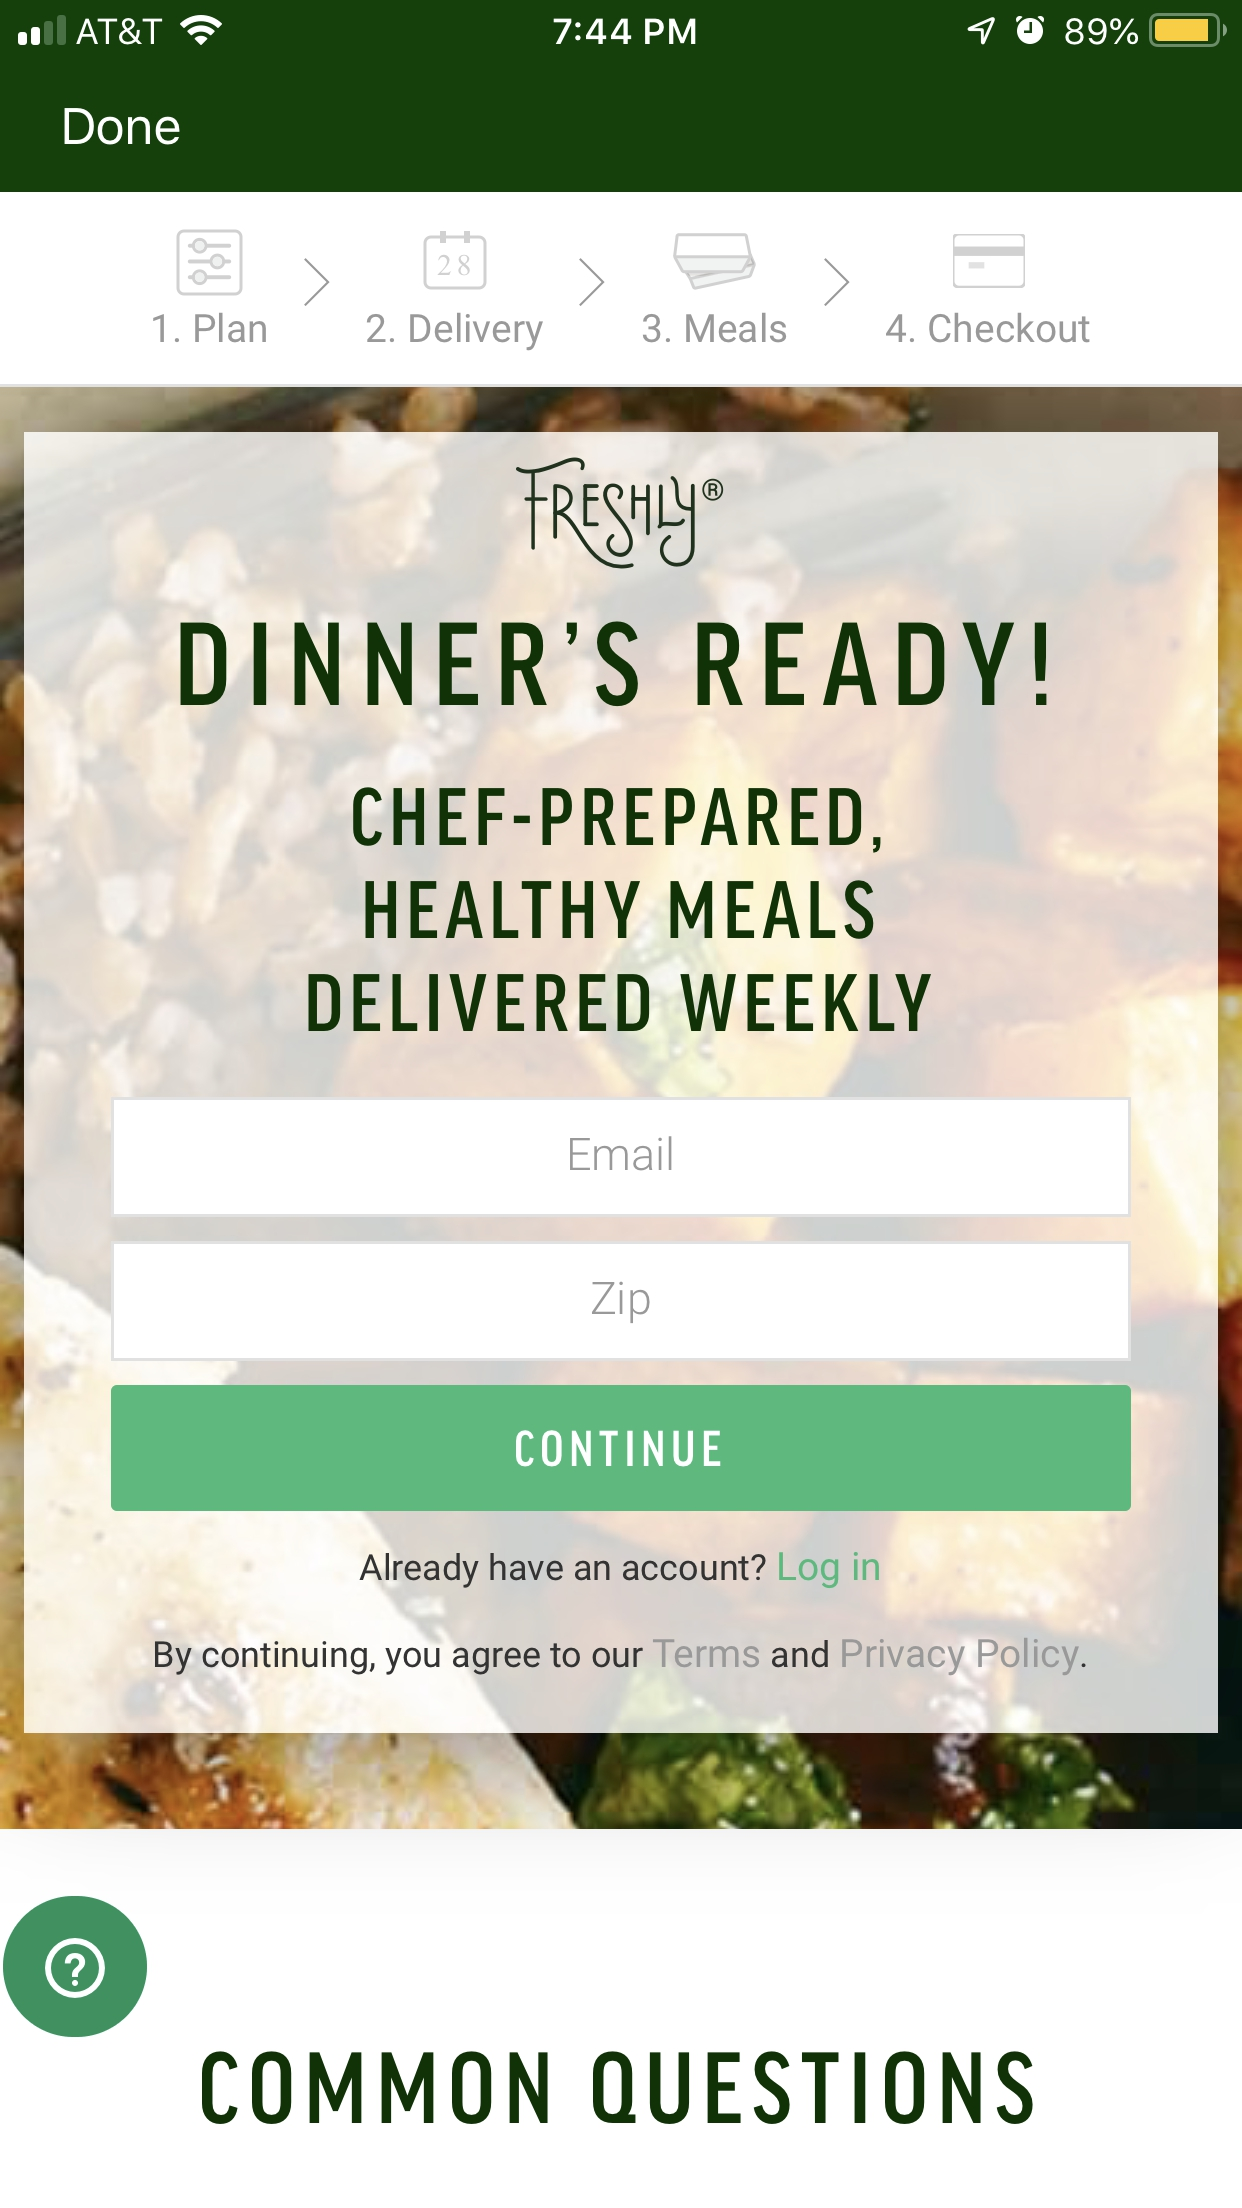EditText: (112, 1240, 1131, 1362), (112, 1096, 1131, 1218)
Icon: (5, 1896, 149, 2038), (177, 231, 244, 299), (952, 234, 1027, 290), (423, 231, 488, 291), (303, 258, 331, 306), (579, 258, 607, 306), (823, 258, 851, 306)
Image: (516, 456, 725, 572), (673, 234, 757, 291)
Text: (308, 787, 933, 1033), (180, 622, 1048, 708), (202, 2050, 1034, 2125), (155, 1638, 1087, 1677), (359, 1551, 881, 1589), (367, 312, 544, 352), (886, 312, 1090, 344), (641, 312, 787, 344), (64, 109, 180, 147), (569, 1136, 673, 1172), (153, 312, 267, 344), (591, 1280, 651, 1324)
TextButton: (111, 1385, 1131, 1512)
UpperTaskBar: (2, 2, 1242, 49)
